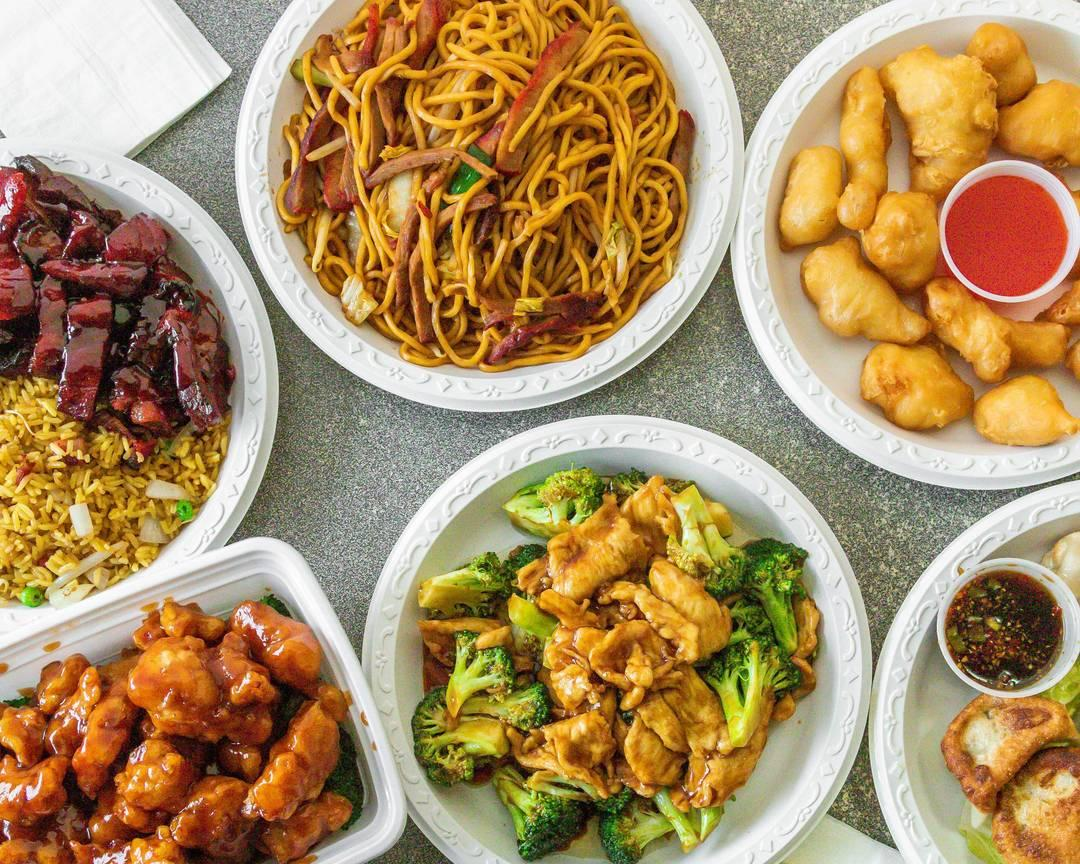Braised Crucian Carp: (360, 426, 856, 857), (237, 6, 715, 416), (733, 3, 1067, 484), (0, 141, 276, 608), (1, 541, 402, 861)
